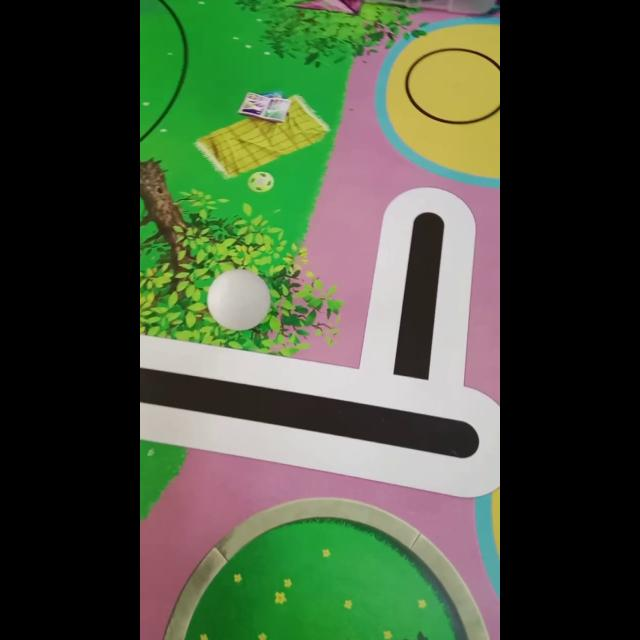white ball: (206, 268, 270, 332)
